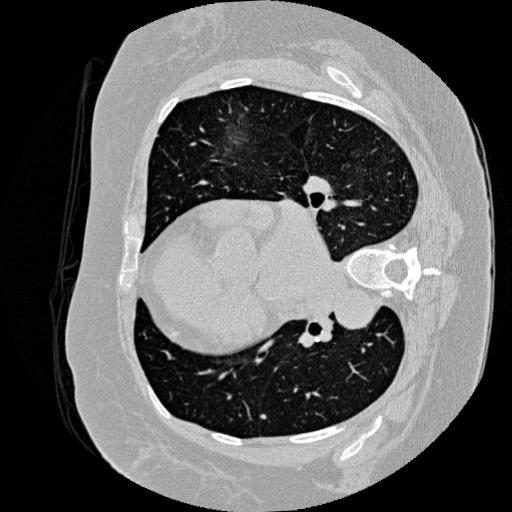nodule: (258, 410, 270, 422)
